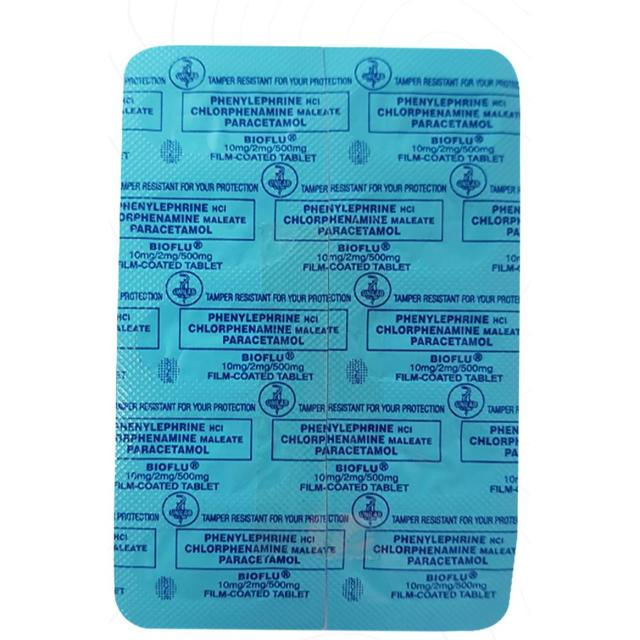blister: (117, 39, 520, 636)
